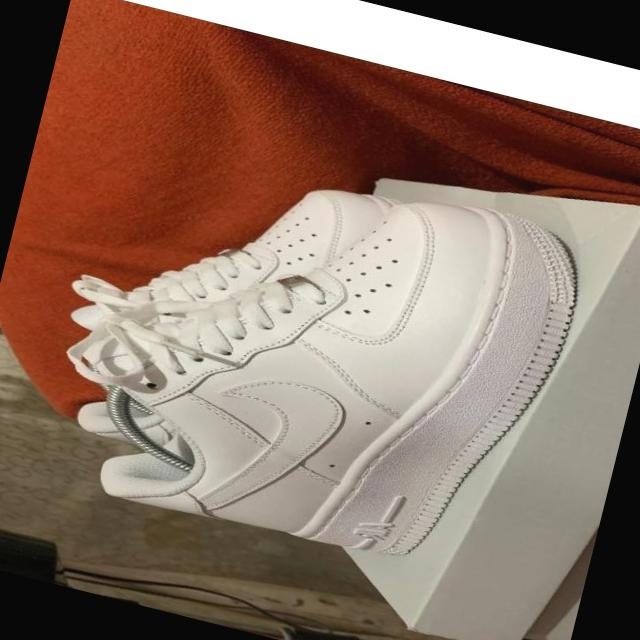nike_original_airforce: (85, 132, 614, 606), (48, 124, 412, 472)
